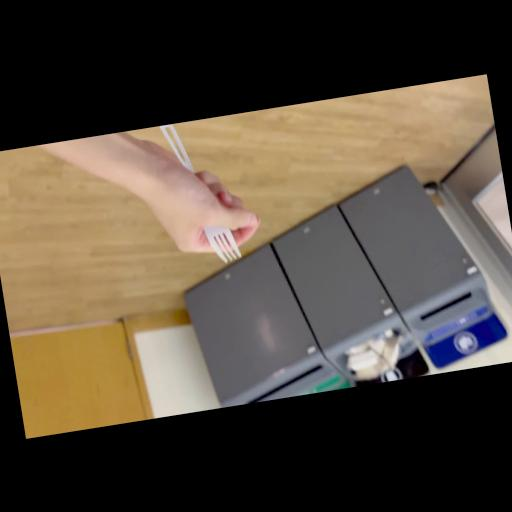utensil: (162, 116, 242, 269)
